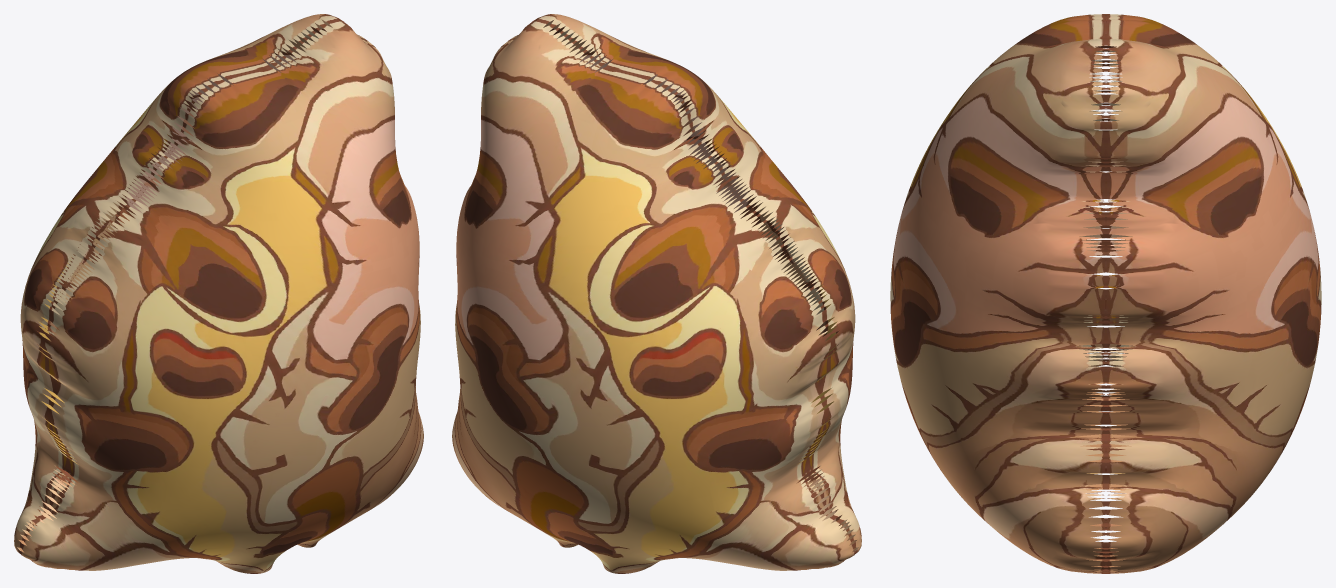
The model's file is pitted_cliff.glb.
3 renders of one model, left to right at view 1: azimuth 30°, elevation 25°; view 2: azimuth 150°, elevation 25°; view 3: azimuth 270°, elevation 25°, orthographic. The views are drawn at different scales.
Parts seen in each view (by area): view 1: pitted_cliff; view 2: pitted_cliff; view 3: pitted_cliff.
Boxes of the visible parts, x1=… form: pitted_cliff: x1=14, y1=14, x2=423, y2=573; pitted_cliff: x1=452, y1=14, x2=861, y2=573; pitted_cliff: x1=890, y1=14, x2=1321, y2=573.
Size of the model in its own units: 0.9867 by 1.16 by 0.852.
1 material, 1 textured.
